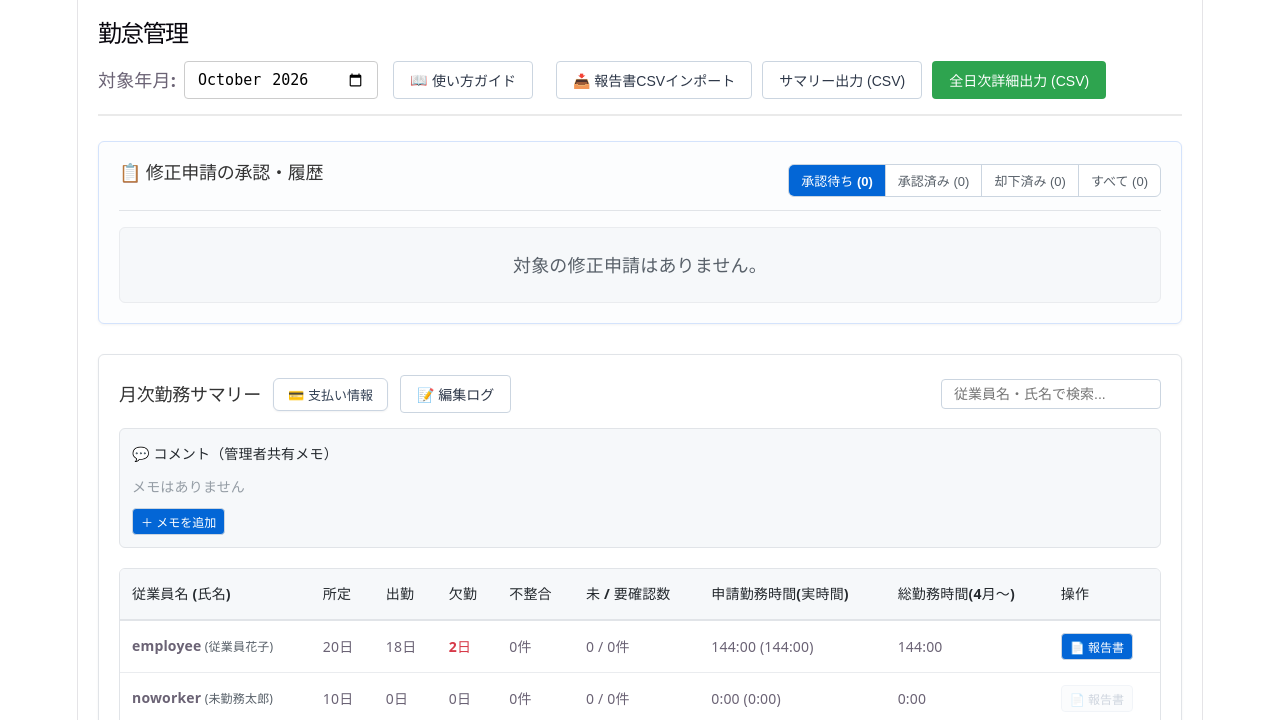
Test: AttendancePage - History › ZなしのISO文字列が返された場合もローカルタイムで正しく時刻が表示されること
This screenshot has width=1280, height=720.
Expected: the heading "月次勤務サマリー" is shown, [119, 384, 261, 405]
Step 1. Click the text "employee" → (640, 646), box [120, 620, 1160, 673]
(page scrolled)
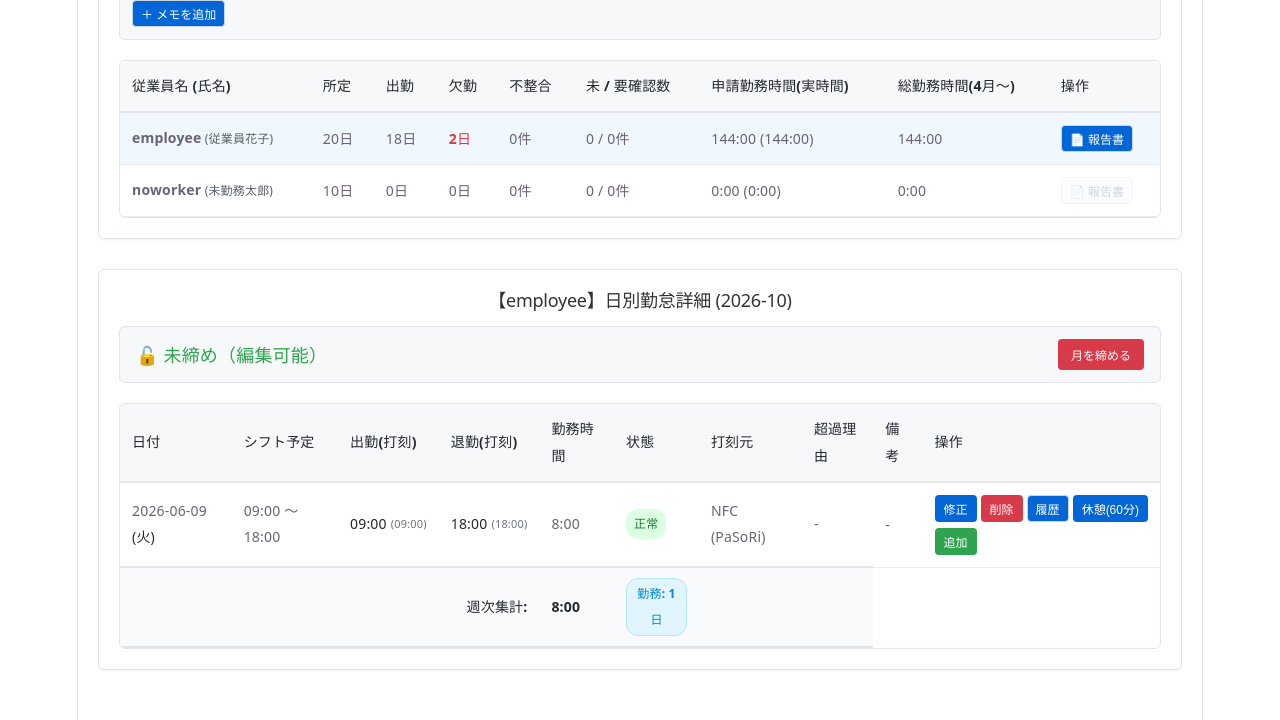
Expected: the heading "【employee】日別勤怠詳細 (2026-10)" is shown, [488, 288, 792, 312]
Step 2. Click the button "履歴" → (1048, 508), box [1027, 495, 1069, 522]
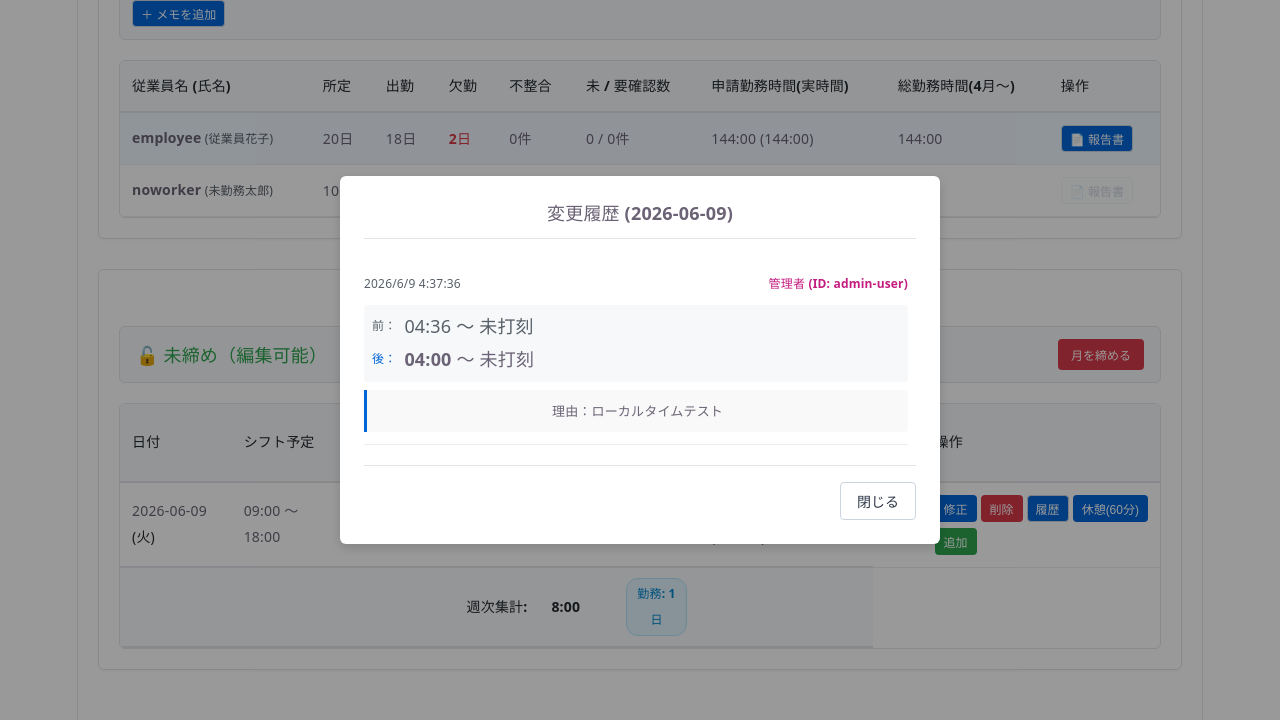
Expected: the heading "変更履歴 (2026-06-09)" is shown, [364, 200, 916, 239]
Expected: the text "ローカルタイムテスト" is shown, [592, 402, 723, 420]
Expected: the text "04:36 〜 未打刻" is shown, [404, 314, 534, 342]
